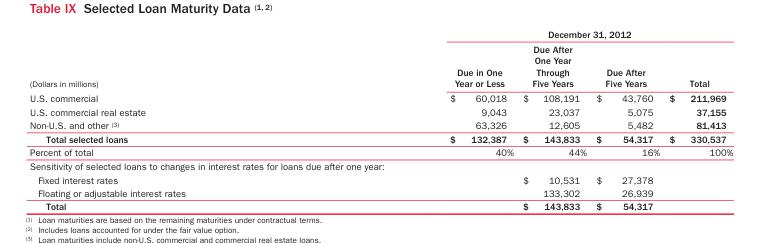table: (29, 28, 732, 211)
table column: (29, 28, 317, 211), (317, 28, 517, 211), (517, 28, 590, 211), (590, 28, 663, 211), (663, 28, 732, 211)
table column header: (29, 28, 732, 90)
table projected row header: (29, 158, 732, 172)
table row: (29, 41, 732, 90), (29, 90, 732, 104), (29, 104, 732, 118), (29, 131, 732, 145), (29, 158, 732, 172), (29, 172, 732, 186), (29, 28, 732, 41), (29, 118, 732, 131), (29, 145, 732, 158), (29, 186, 732, 199), (29, 199, 732, 211)
table spanning cell: (29, 28, 317, 90), (317, 28, 732, 41)
